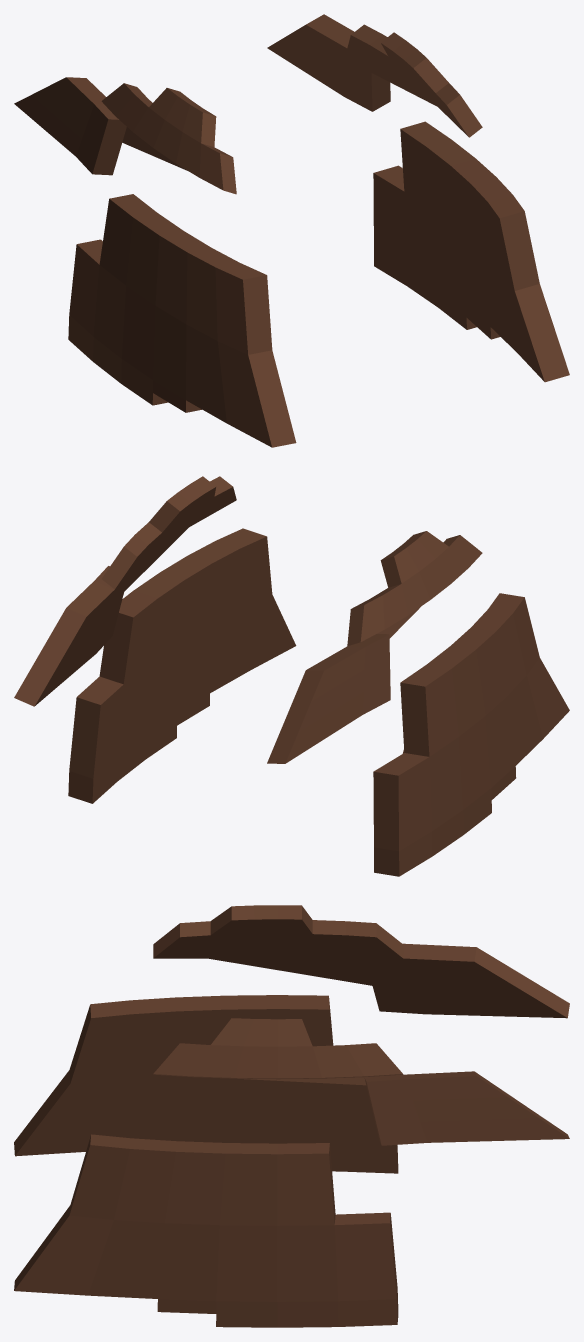
The model's file is PygonattMutant_Protection02.fbx.
3 renders of one model, top to bottom at view 1: azimuth 30°, elevation 25°; view 2: azimuth 150°, elevation 25°; view 3: azimuth 270°, elevation 25°, orthographic. The views are drawn at different scales.
Parts seen in each view (by area): view 1: Carapace.002; view 2: Carapace.002; view 3: Carapace.002.
Part boxes in pixels (x1,y1,x2,y2): Carapace.002: (14, 14, 569, 447); Carapace.002: (14, 476, 569, 876); Carapace.002: (14, 905, 569, 1327).
Size of the model in its own units: 127 by 97.71 by 175.
Materials: 1 (1 with a texture image).
